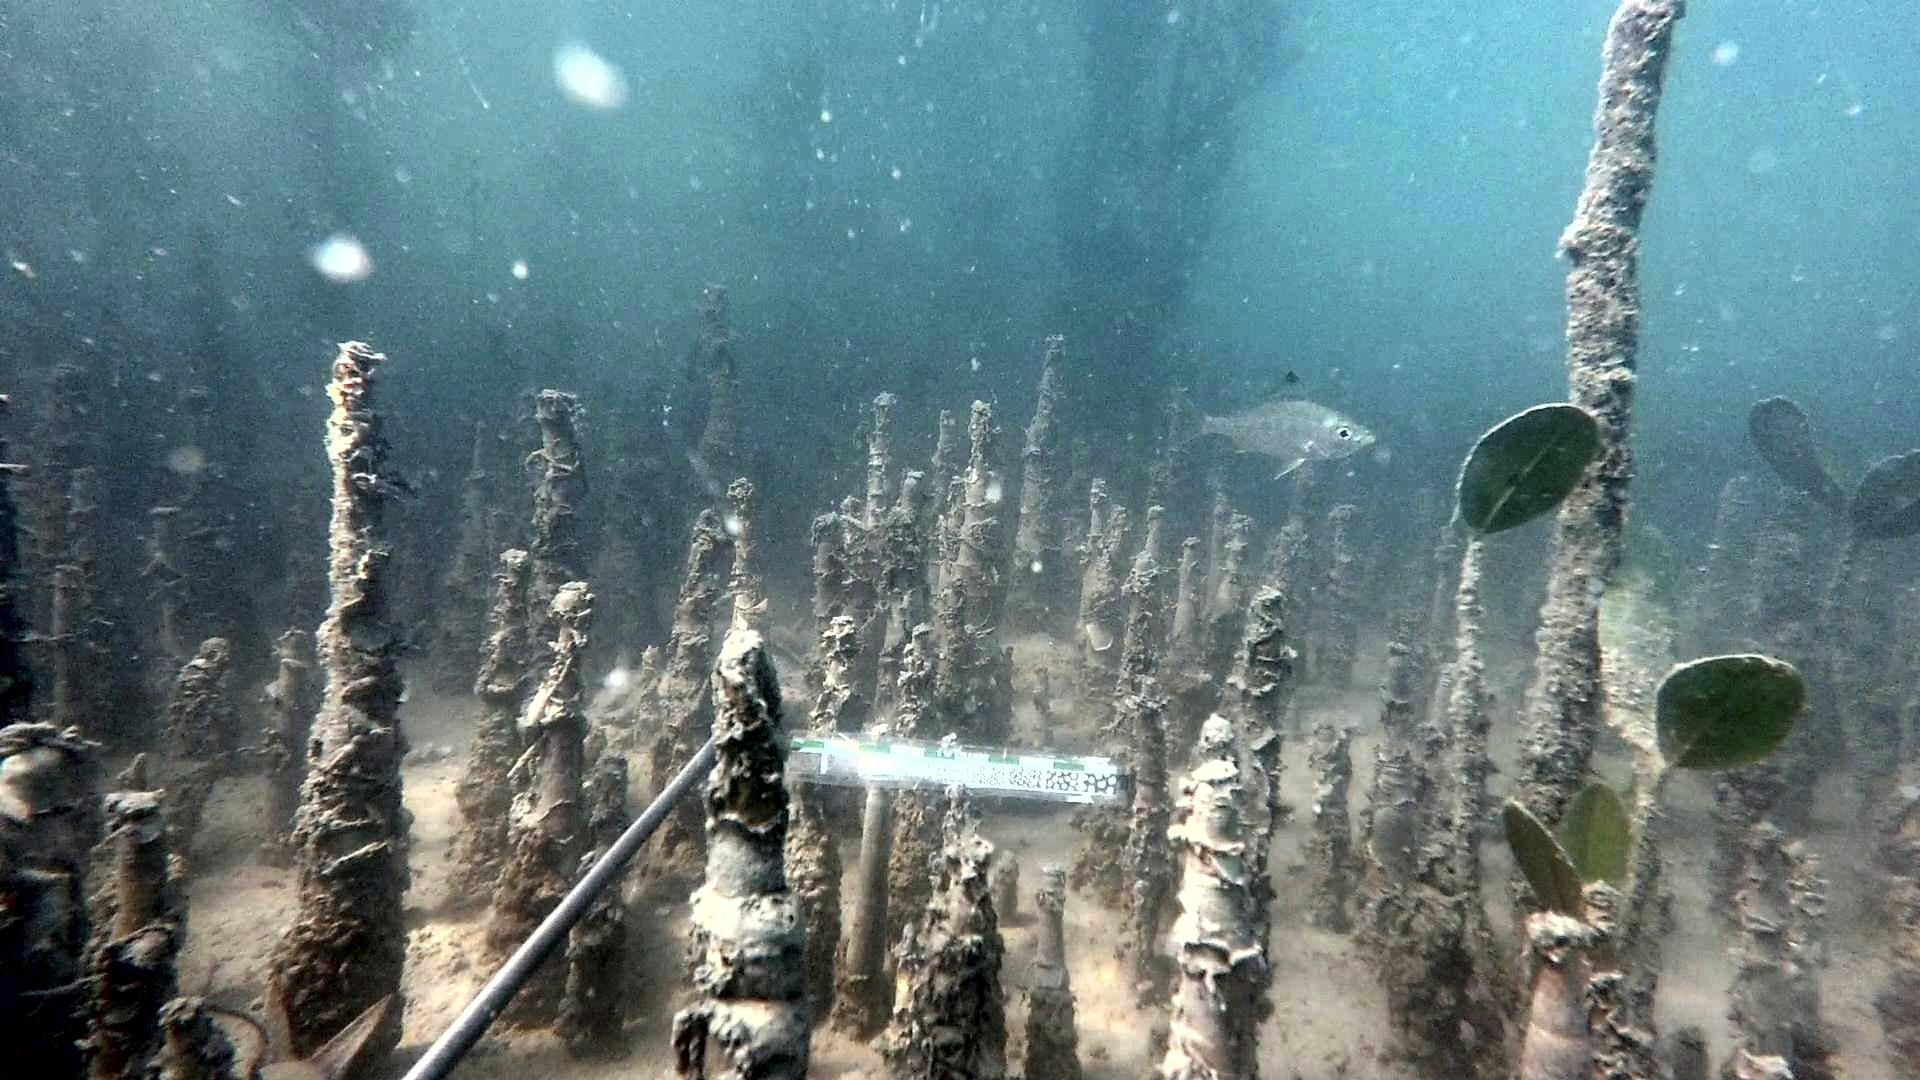gerres: (1170, 369, 1379, 480)
